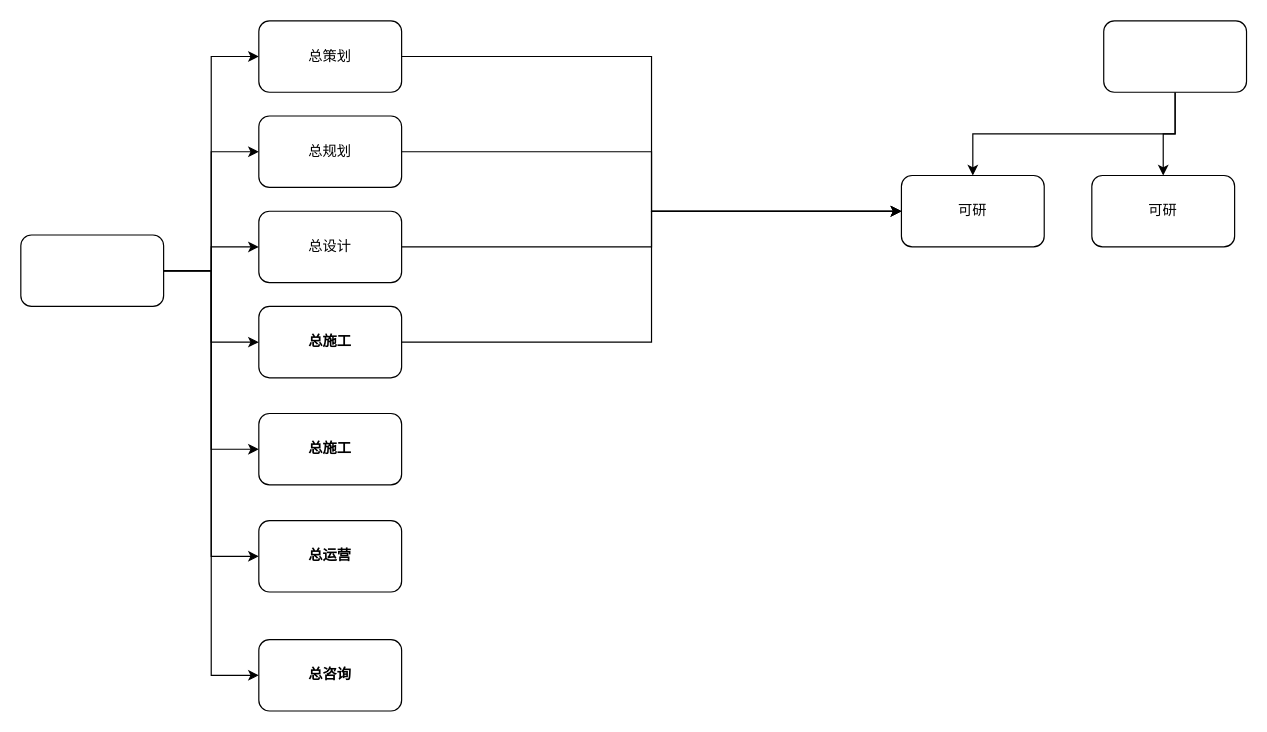
This 1267x732 diagram has some shape labels left out. Here are the shapes that lost their labels. From the top down, the centre of each, then its label:
the point at 1175,56: Task
the point at 92,270: 总责任师
